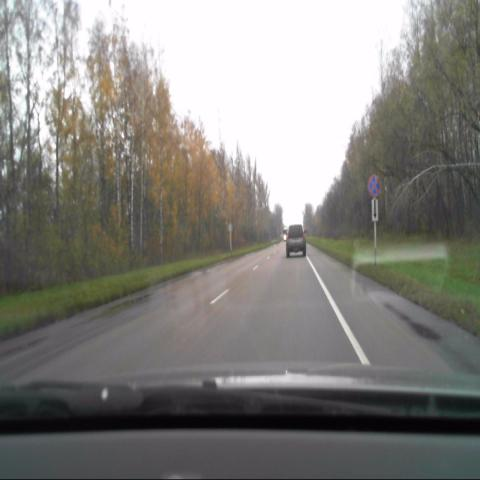3_27: (367, 172, 380, 197)
